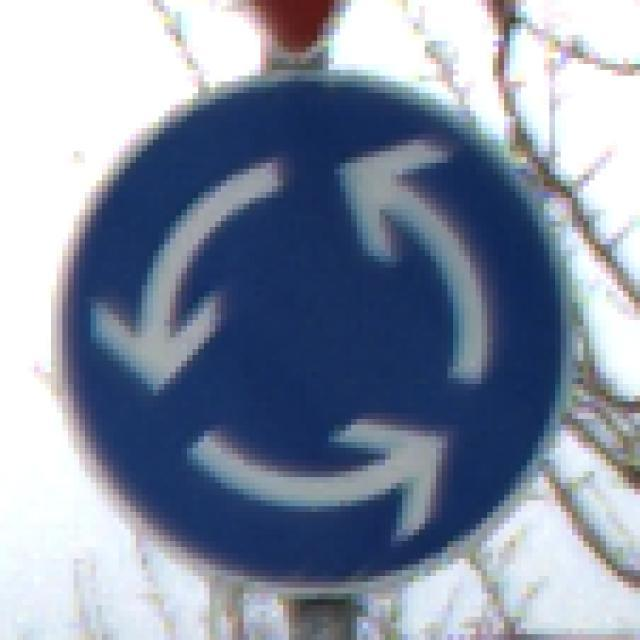roundabout: (56, 75, 567, 589)
